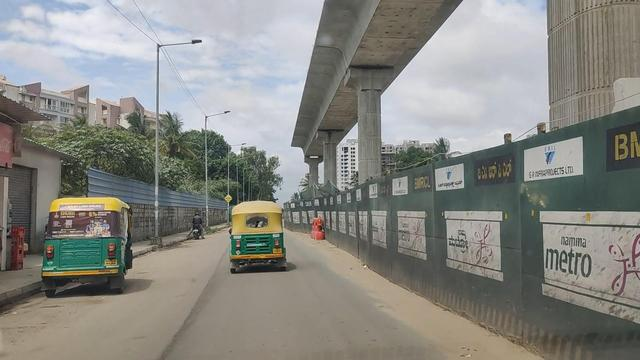LMV: (40, 187, 136, 296), (223, 198, 290, 280)
